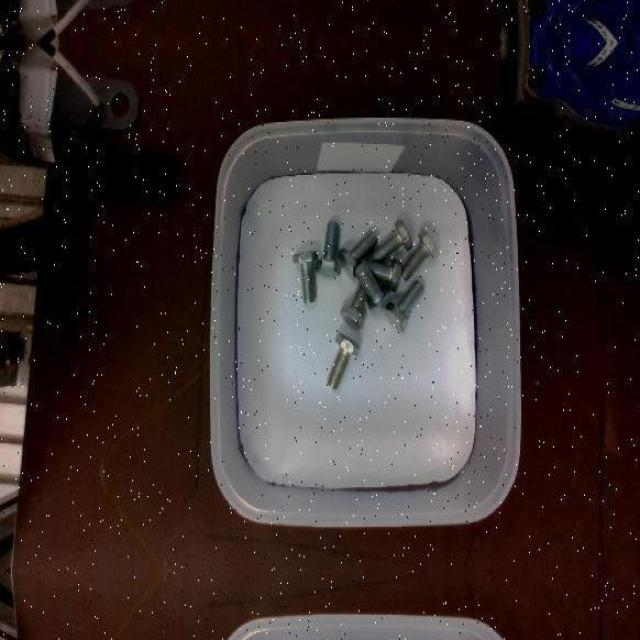screw: (326, 331, 361, 388), (401, 229, 440, 280), (385, 280, 424, 330), (370, 218, 412, 262), (354, 262, 389, 313), (314, 220, 341, 275), (292, 252, 318, 304)
